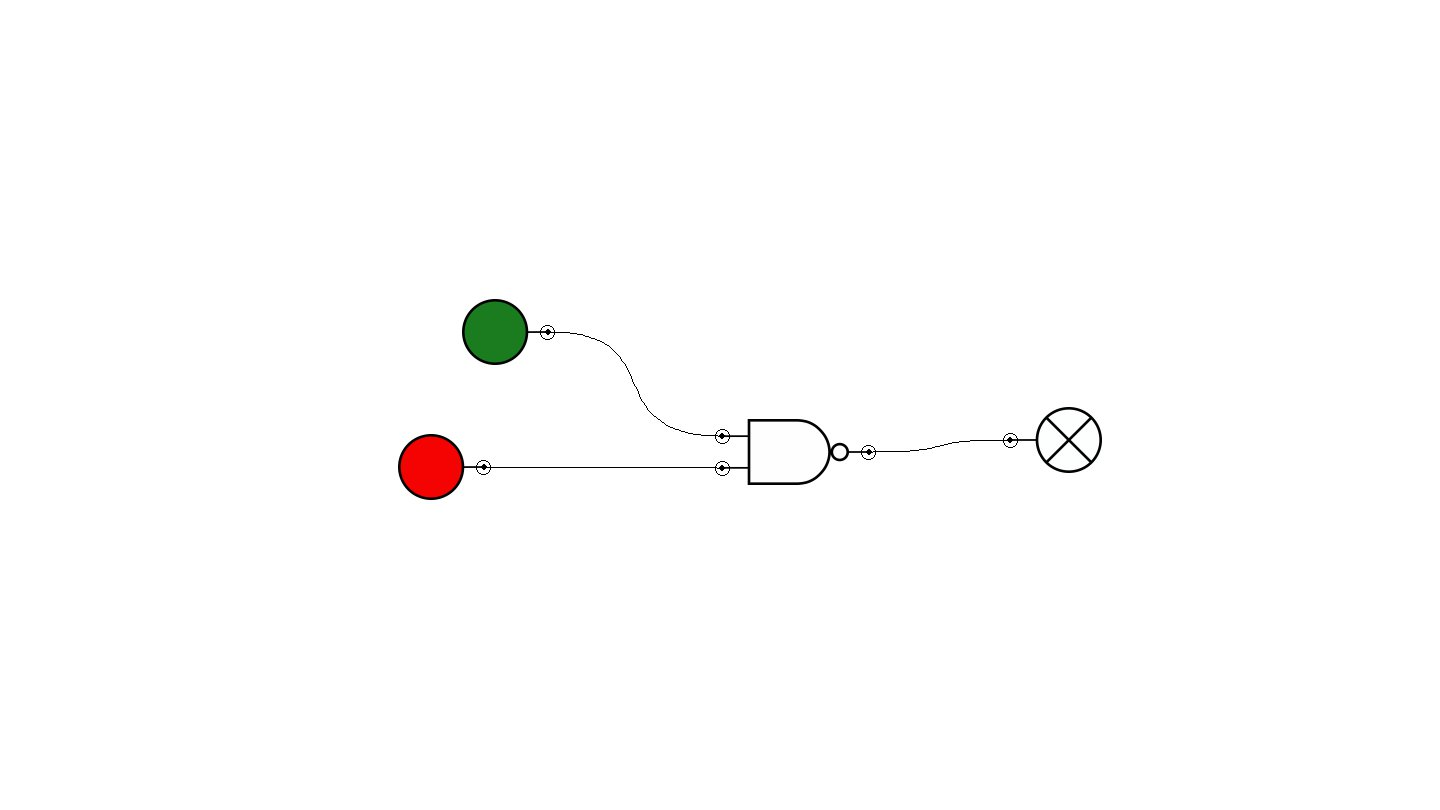bulb: (1003, 407, 1102, 473)
nand: (715, 419, 876, 485)
switch_False: (398, 434, 491, 500)
switch_True: (462, 299, 555, 365)
